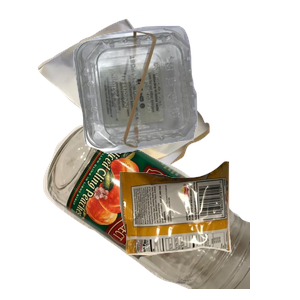glass: (41, 120, 281, 300)
paper: (35, 10, 237, 178)
plastic: (71, 23, 300, 169)
trash: (117, 159, 300, 300)
